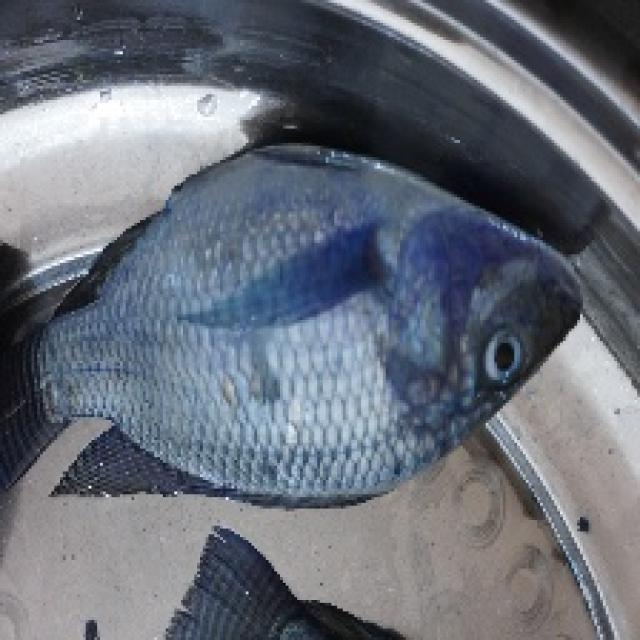Fresh: (0, 162, 611, 514)
